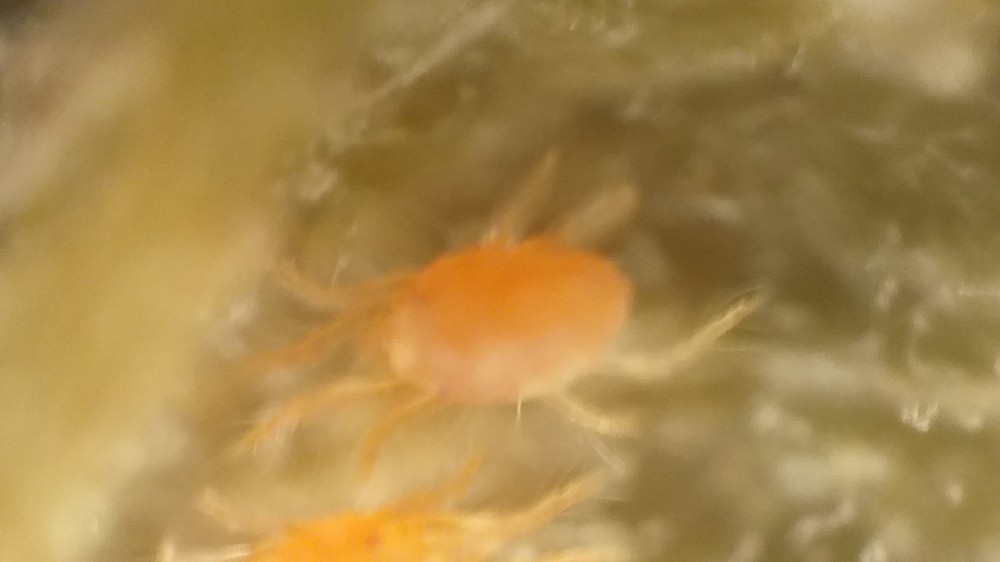Aracnido Rojo: (241, 199, 760, 464)
